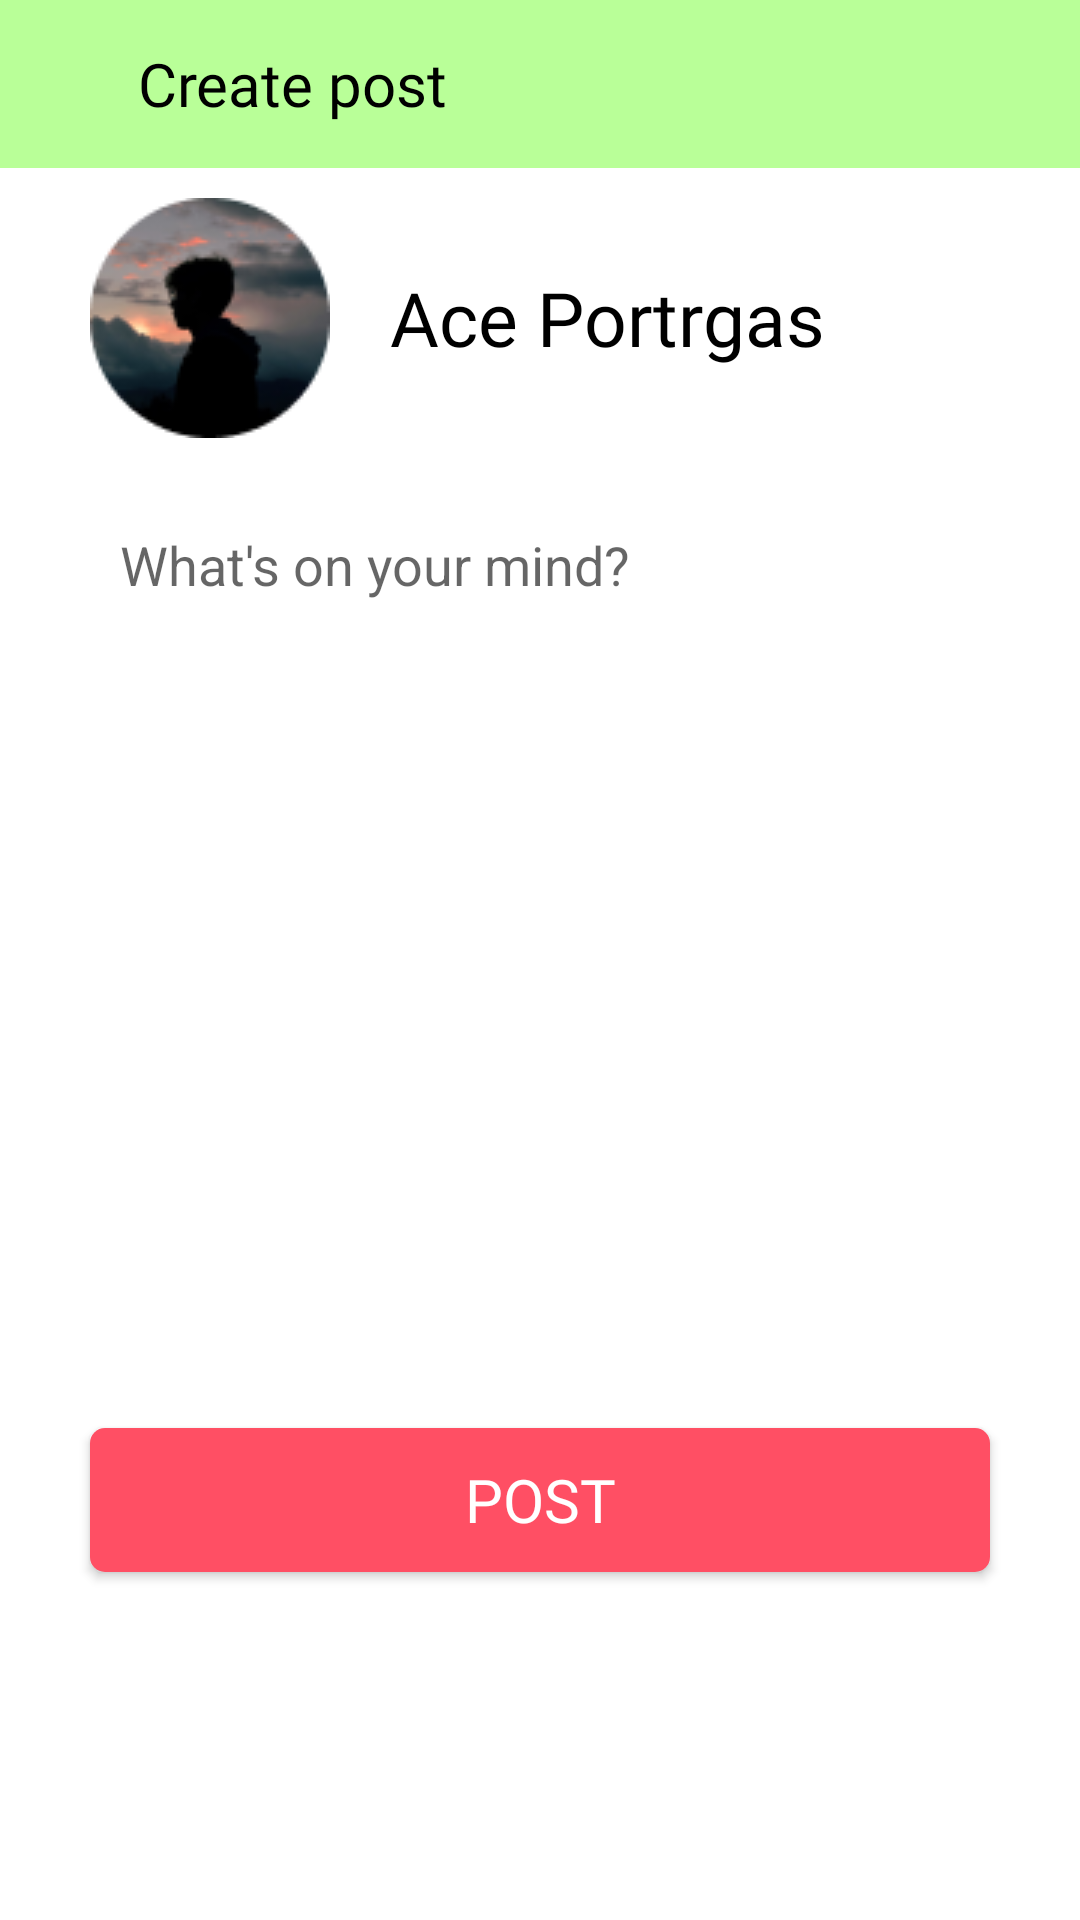

Icon click points for this 1080px x 1920px phone screenshot, format (x,y):
profilepicture: (210,318)
